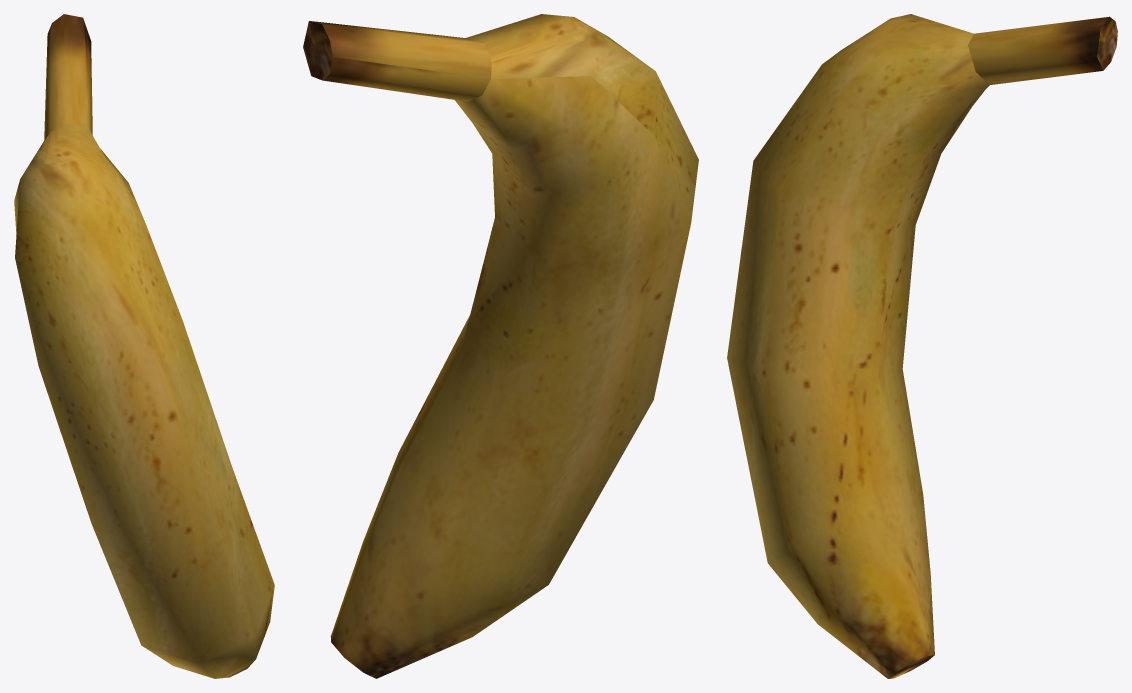
Rendered from platano_richi.fbx.
The picture shows the model from 3 angles, left to right: view 1: azimuth 30°, elevation 25°; view 2: azimuth 150°, elevation 25°; view 3: azimuth 270°, elevation 25°; orthographic projection. The views are drawn at different scales.
Visible parts, largest first — view 1: platano32; view 2: platano32; view 3: platano32.
Part boxes in pixels (x1,y1,x2,y2): platano32: (14, 14, 274, 678); platano32: (303, 14, 698, 678); platano32: (727, 14, 1117, 678).
Size of the model in its own units: 0.1545 by 0.3601 by 0.2025.
Materials: 1 (1 with a texture image).
